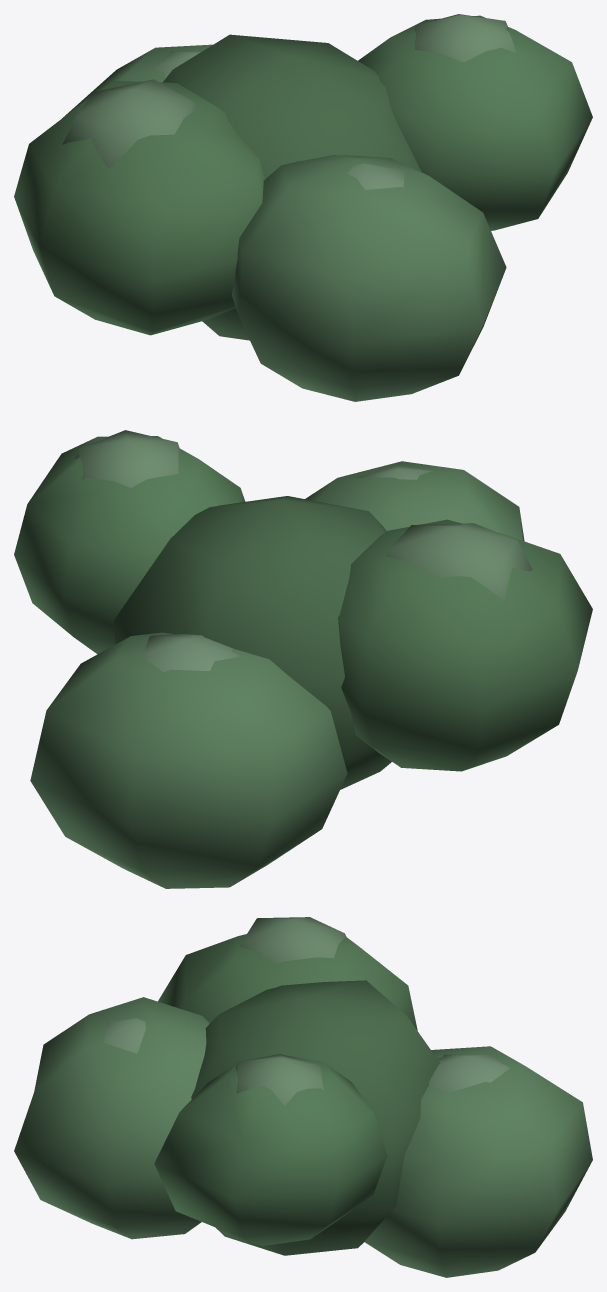
File: bush2.glb
The picture shows the model from 3 angles, top to bottom: view 1: azimuth 30°, elevation 25°; view 2: azimuth 150°, elevation 25°; view 3: azimuth 270°, elevation 25°; orthographic projection. The views are drawn at different scales.
Parts seen in each view (by area): view 1: body; view 2: body; view 3: body.
Part boxes in pixels (x1,y1,x2,y2): body: [14, 14, 592, 401]; body: [14, 430, 592, 888]; body: [14, 917, 592, 1277].
Bounding box in the file's own units: 1.59 × 0.8846 × 1.69.
